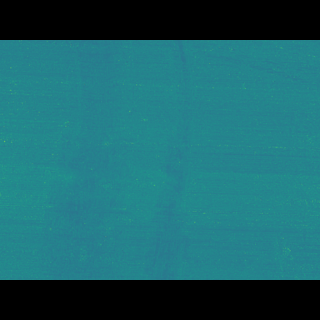Loch: (37, 70, 199, 248)
